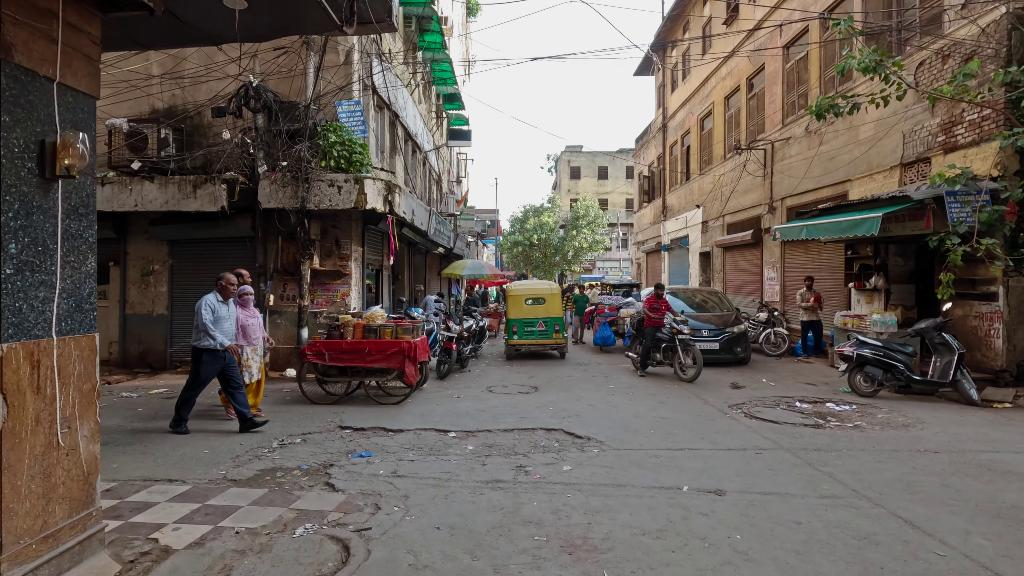garbage: (283, 367, 296, 378), (350, 452, 373, 458)
